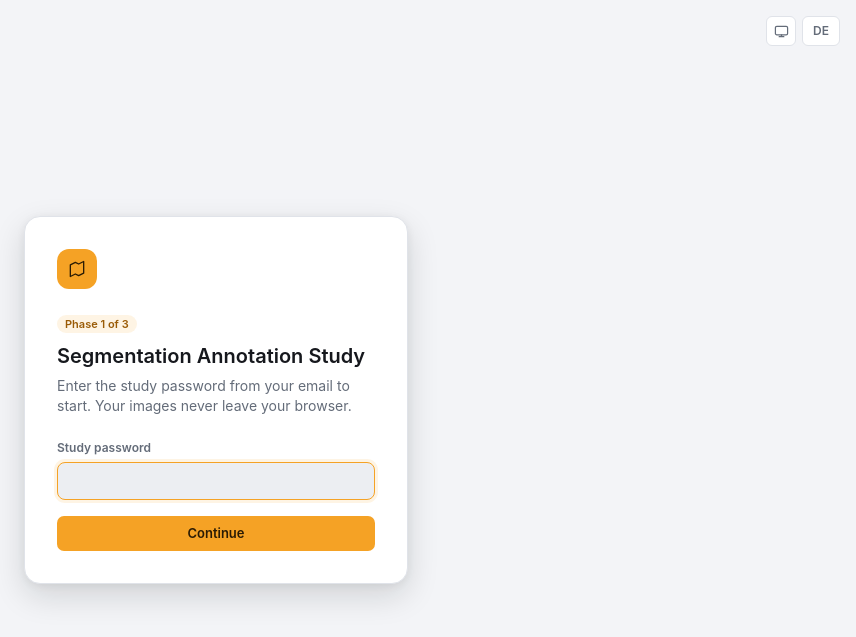
Test case: phase 1 entry gate › rejects a wrong password and stays on the entry screen
Type "not-the-password" into the password field labelled "Study password".
click(216, 481); type("not-the-password")  # box [57,462,375,500]
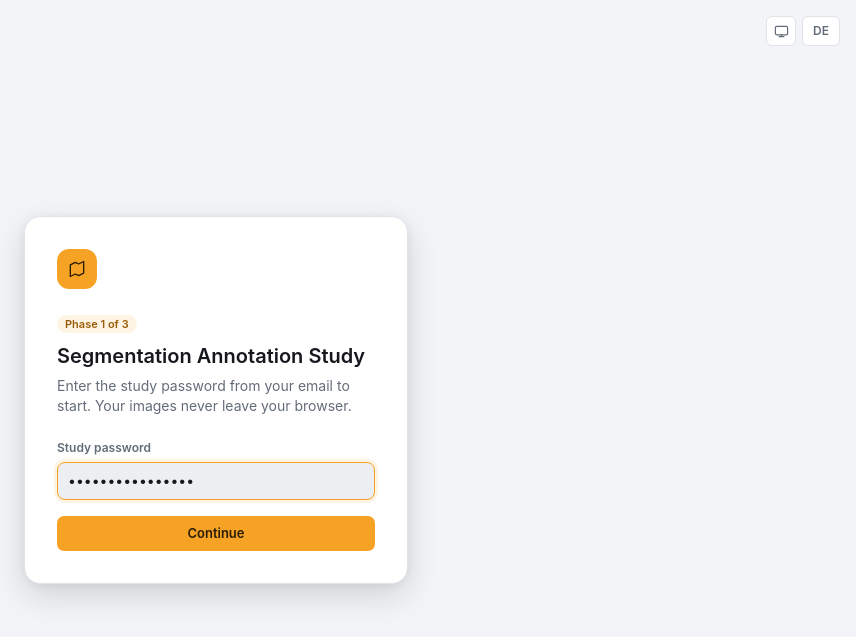
Click the button "Continue".
click(216, 533)  # box [57,516,375,551]
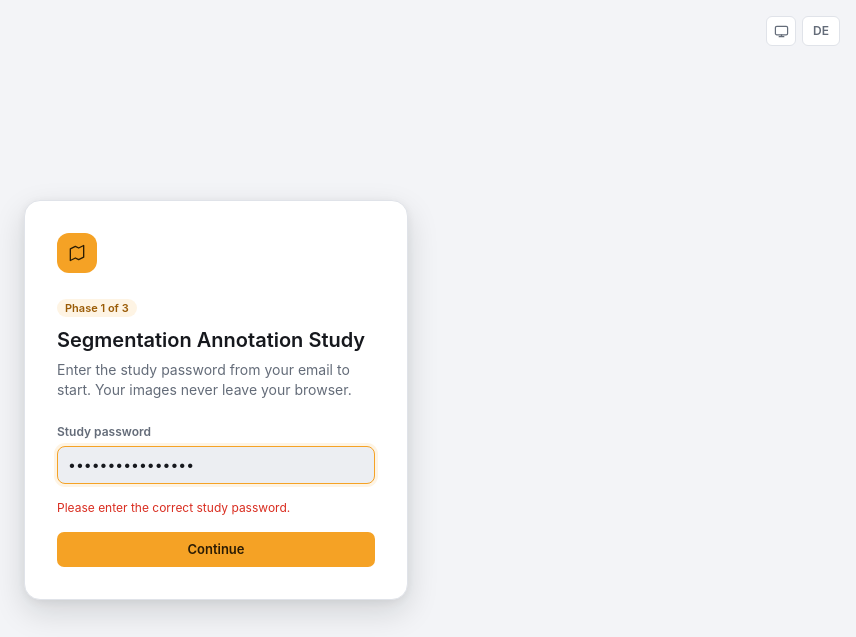
expect the message shows "study password": met, box [57,500,290,515]
